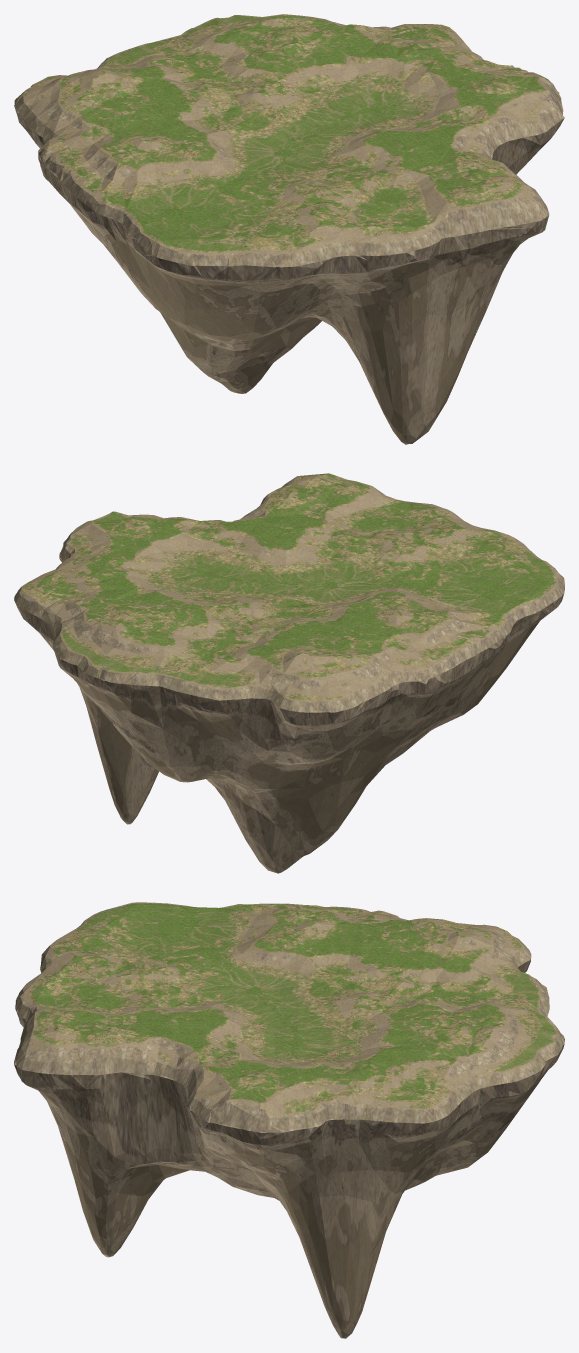
File: island_na_1_02.fbx
3 renders of one model, top to bottom at view 1: azimuth 30°, elevation 25°; view 2: azimuth 150°, elevation 25°; view 3: azimuth 270°, elevation 25°, orthographic. The views are drawn at different scales.
Parts seen in each view (by area): view 1: island_1; view 2: island_1; view 3: island_1.
Boxes of the visible parts, left/top/right/bottom form: island_1: left=14, top=14, right=564, bottom=444; island_1: left=14, top=473, right=564, bottom=873; island_1: left=14, top=902, right=564, bottom=1338.
Size of the model in its own units: 4.22 by 2.57 by 4.38.
1 material, 1 textured.
